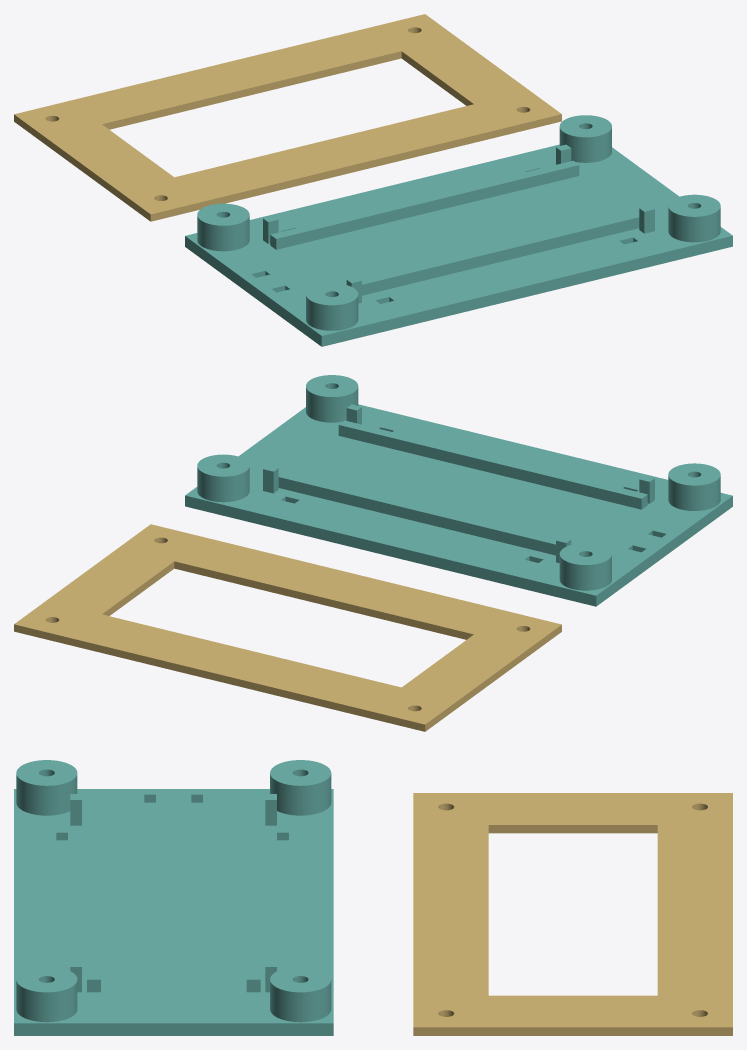
File: encoder-cradle-v1.glb
3 views of the same model, one above another, from view 1: azimuth 30°, elevation 25°; view 2: azimuth 150°, elevation 25°; view 3: azimuth 270°, elevation 25° (orthographic). The views are drawn at different scales.
Parts seen in each view (by area): view 1: encoder_cradle, drill_jig_104x54; view 2: encoder_cradle, drill_jig_104x54; view 3: encoder_cradle, drill_jig_104x54.
Part boxes in pixels (left/top/right/bottom): encoder_cradle: left=185, top=115, right=732, bottom=346; drill_jig_104x54: left=14, top=14, right=561, bottom=221; encoder_cradle: left=185, top=375, right=732, bottom=606; drill_jig_104x54: left=14, top=524, right=561, bottom=731; encoder_cradle: left=14, top=760, right=333, bottom=1035; drill_jig_104x54: left=413, top=793, right=732, bottom=1035.
Bounding box in the file's own units: 0.118 × 0.01 × 0.153.
